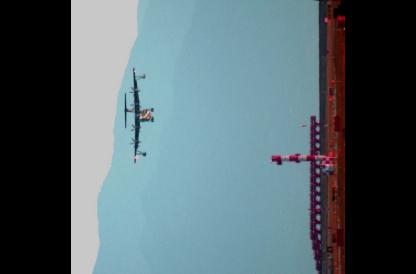Tu95: (124, 67, 154, 162)
